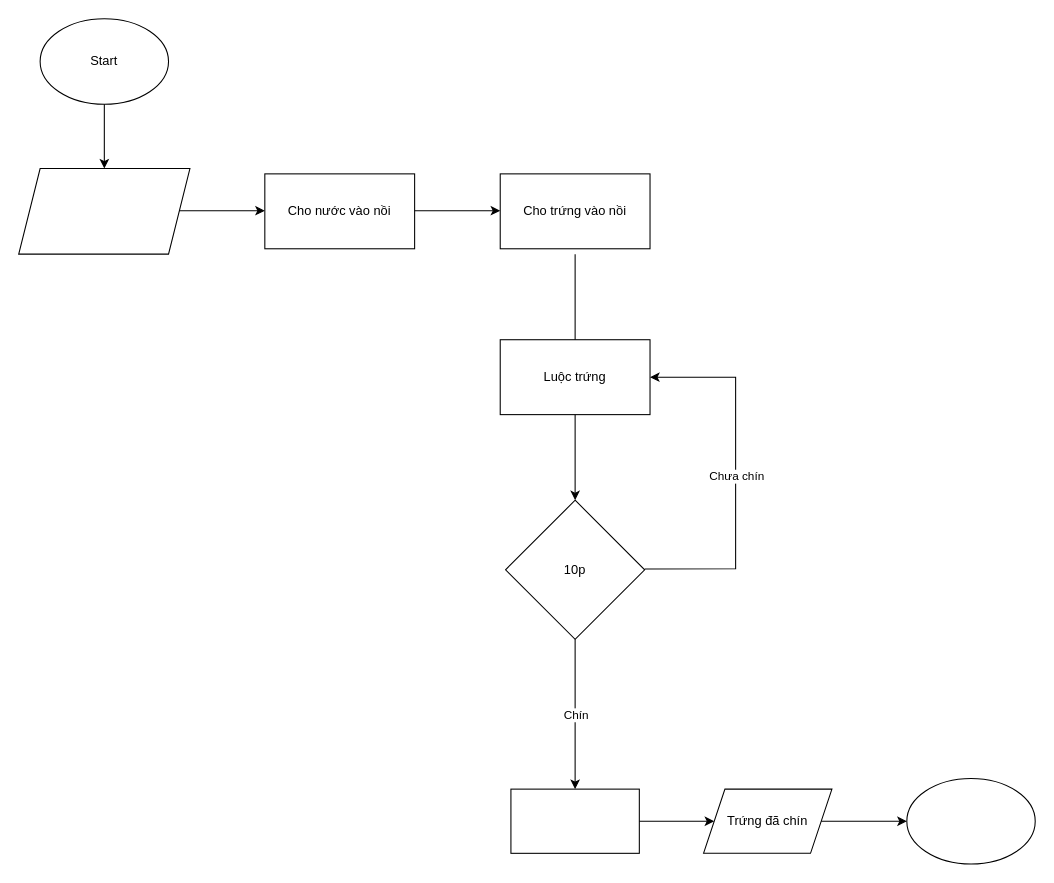
This 1054x883 diagram has some shape labels left out. Each missing label, with the centre of its shape:
"End" goes at (x=970, y=820).
"Trứng, Nước, nồi" goes at (x=104, y=210).
"Vớt trứng" goes at (x=574, y=820).
